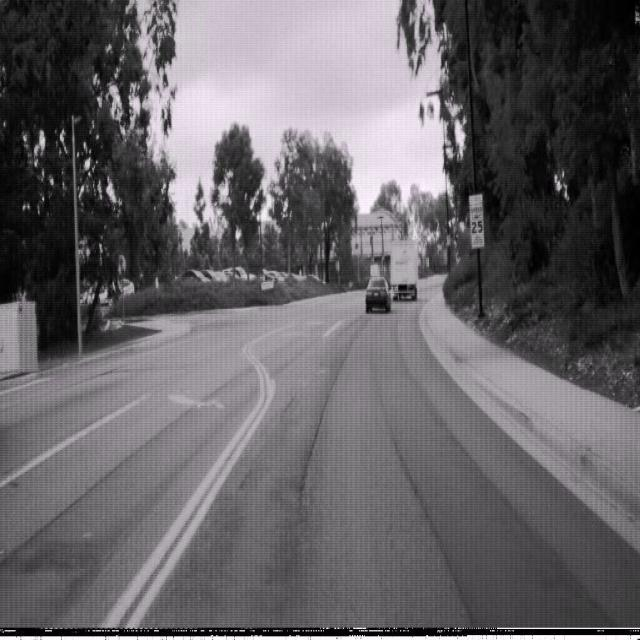speedLimit25: (468, 192, 485, 248)
